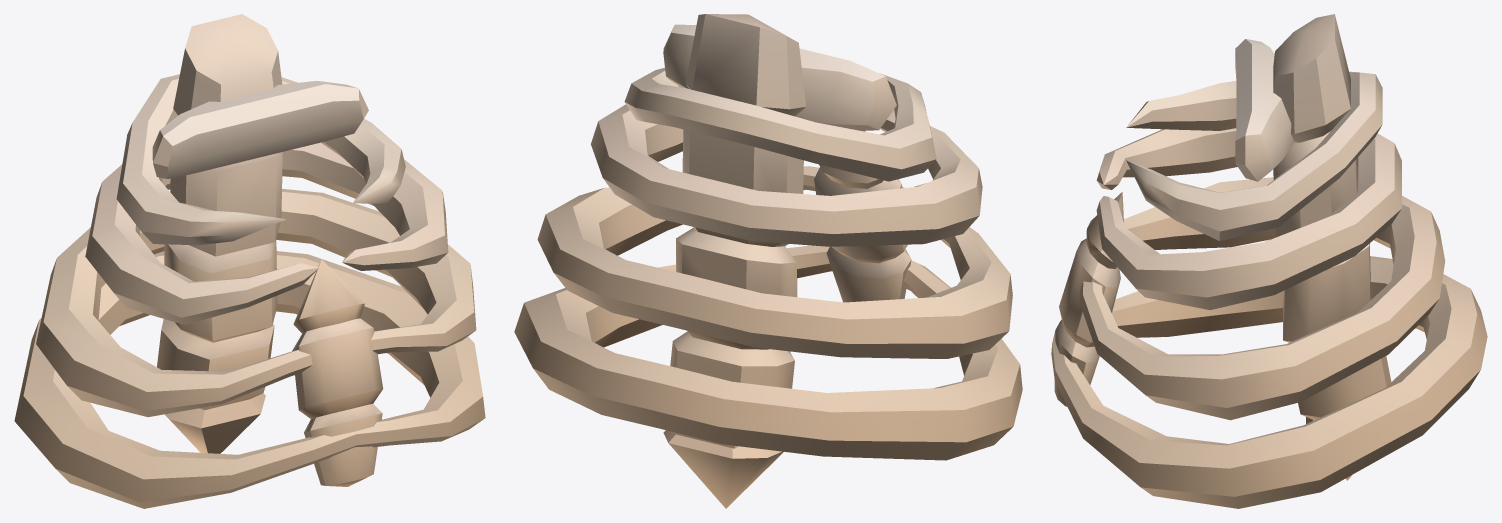
The model's file is ribcage.glb.
3 renders of one model, left to right at view 1: azimuth 30°, elevation 25°; view 2: azimuth 150°, elevation 25°; view 3: azimuth 270°, elevation 25°, orthographic. The views are drawn at different scales.
Visible parts, largest first — view 1: ribcage; view 2: ribcage; view 3: ribcage.
Boxes of the visible parts, left/top/right/bottom form: ribcage: left=14, top=14, right=485, bottom=508; ribcage: left=514, top=14, right=1022, bottom=508; ribcage: left=1051, top=14, right=1487, bottom=508.
Size of the model in its own units: 0.8456 by 0.8582 by 0.7468.
Materials: 1 (1 with a texture image).
